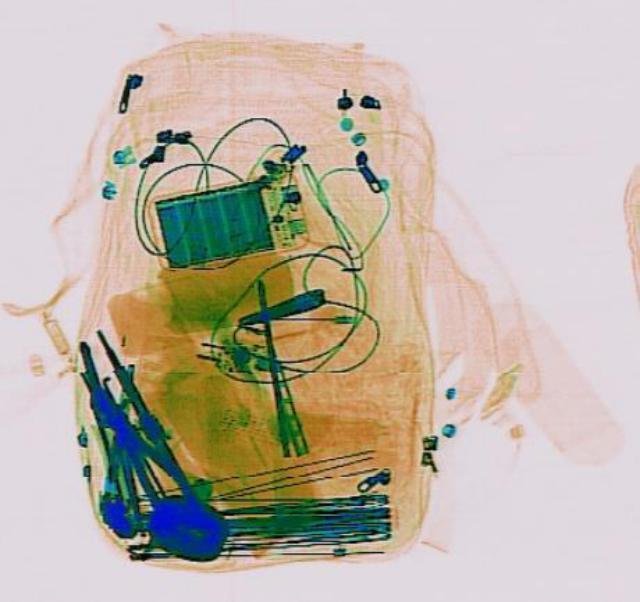Pliers: (53, 354, 197, 521)
